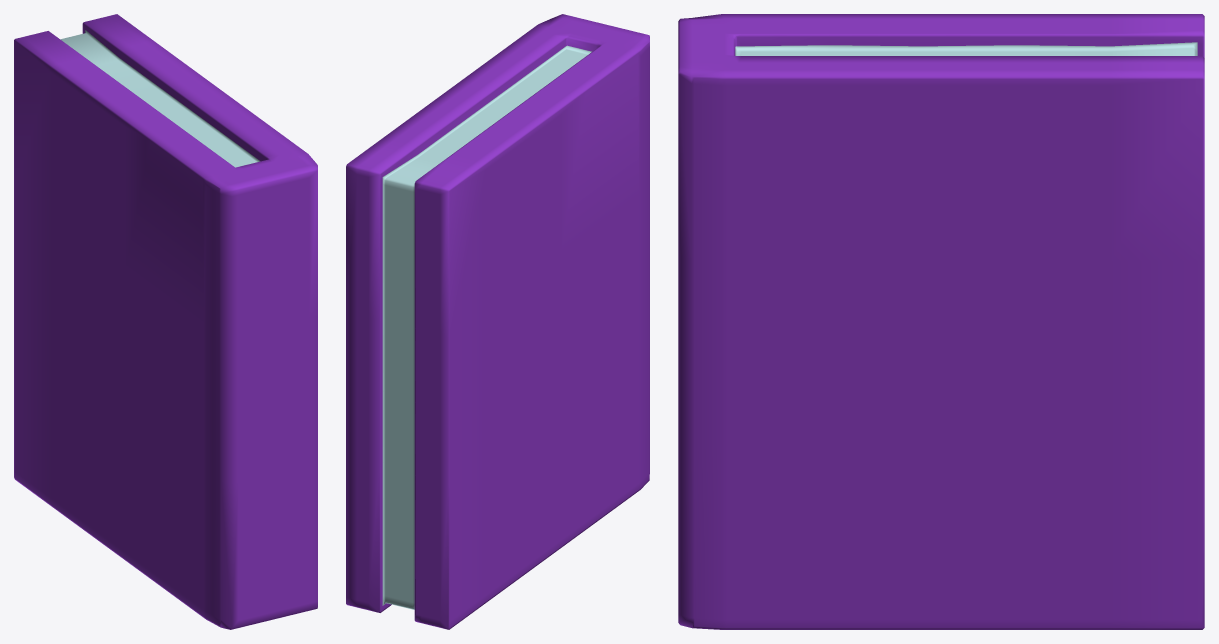
File: SM_Book_Purple.fbx
3 renders of one model, left to right at view 1: azimuth 30°, elevation 25°; view 2: azimuth 150°, elevation 25°; view 3: azimuth 270°, elevation 25°, orthographic. The views are drawn at different scales.
Visible parts, largest first — view 1: SM_Book_Purple; view 2: SM_Book_Purple; view 3: SM_Book_Purple.
Boxes of the visible parts, x1=… form: SM_Book_Purple: x1=14, y1=14, x2=317, y2=629; SM_Book_Purple: x1=346, y1=14, x2=649, y2=629; SM_Book_Purple: x1=678, y1=14, x2=1204, y2=629.
Bounding box in the file's own units: 48.99 × 200 × 173.
